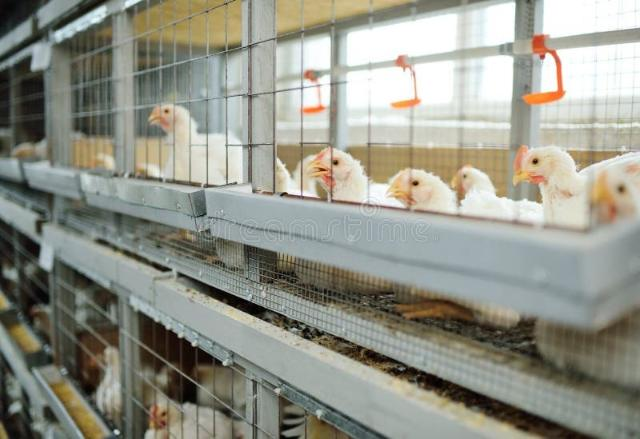Chicken: (512, 142, 640, 230), (151, 103, 250, 187), (452, 165, 545, 222), (308, 146, 382, 204), (141, 398, 238, 439), (589, 162, 640, 230), (387, 168, 459, 216), (93, 342, 129, 418)
